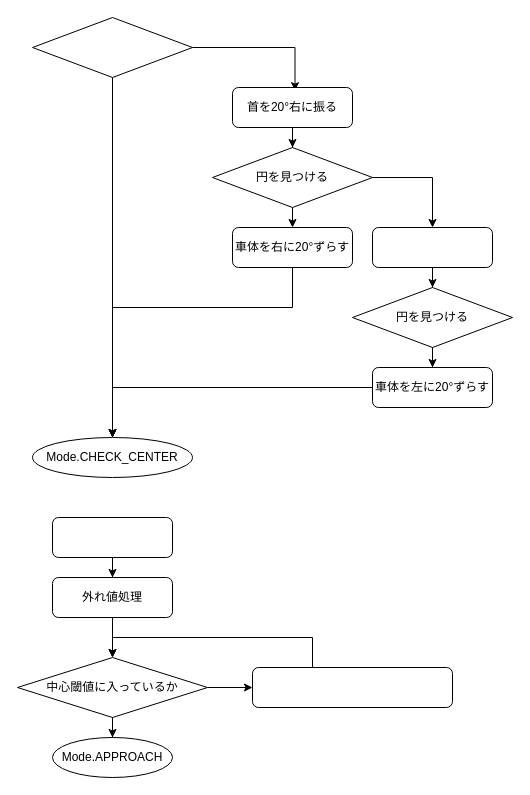
The diagram is 530 pixels wide and 795 high, and some of its shapes have lost their labels. The centre of each missing label's shape, as x and y in pixels:
"そのままの角度で 円を見つける" goes at point 112,47.
"中心の点を取得" goes at point 112,537.
"左右にADJUST_ANGLE°ずつ 車体を回転" goes at point 352,687.
"首を20°左に振る" goes at point 432,247.
